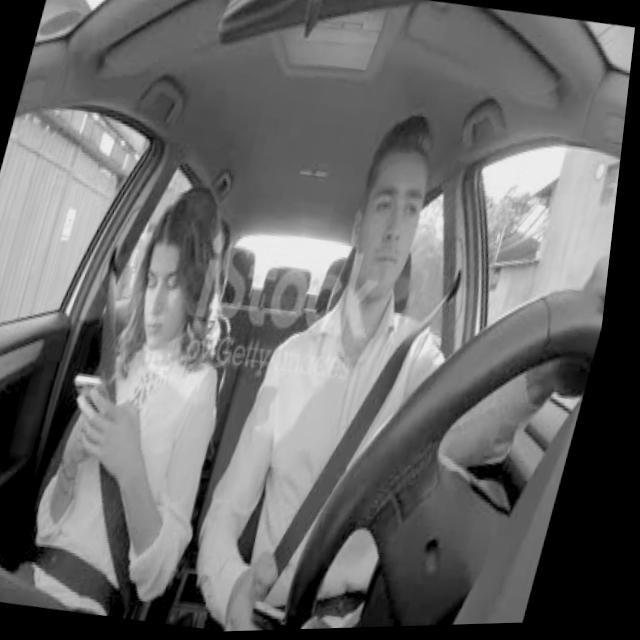PhoneCall: (72, 368, 131, 428)
